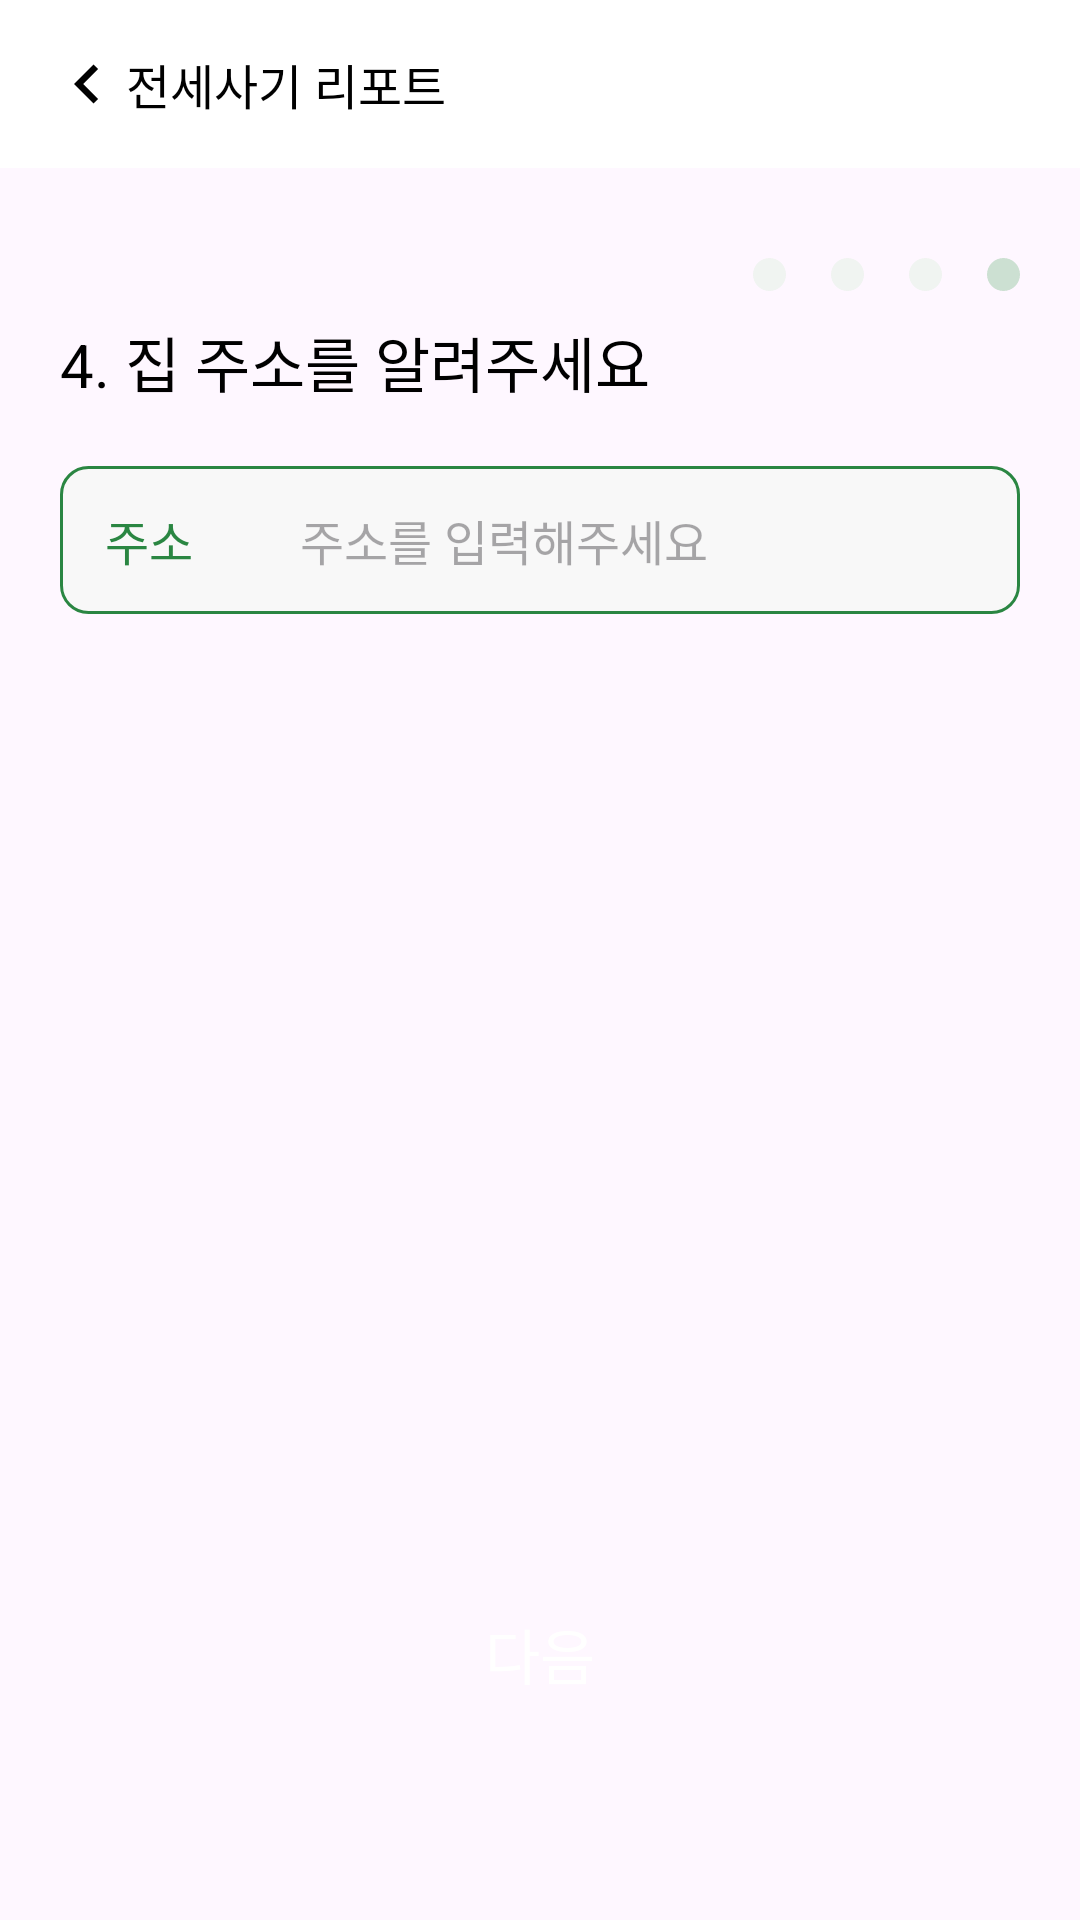

Locate icon controls on the screen. Image size 1080px x 1920px, boxes as box=[x1, y1, x2, y2].
report back arrow: box=[74, 64, 98, 104]
